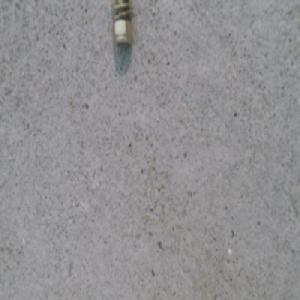BoltNutSet: (111, 0, 131, 49)
